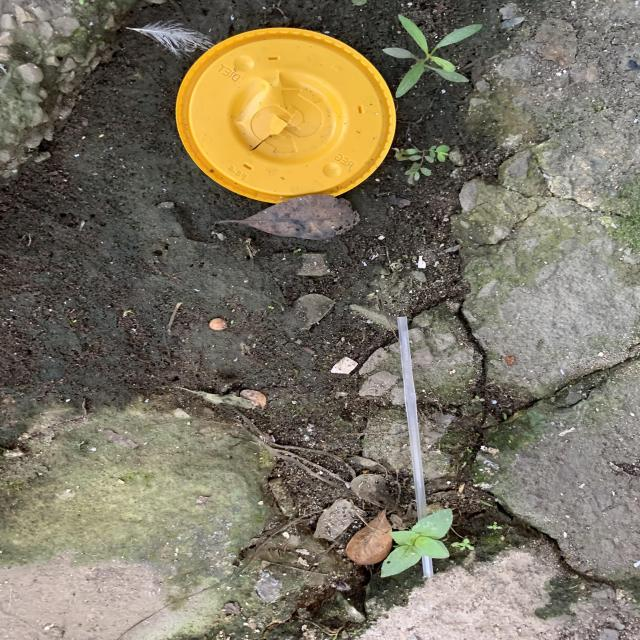litter: (172, 26, 396, 203), (396, 317, 437, 578)
